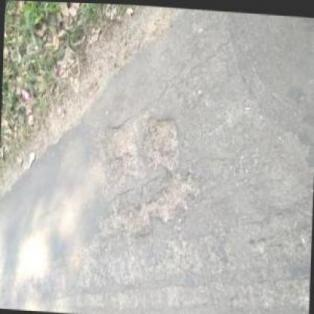Hueco: (94, 102, 206, 245)
